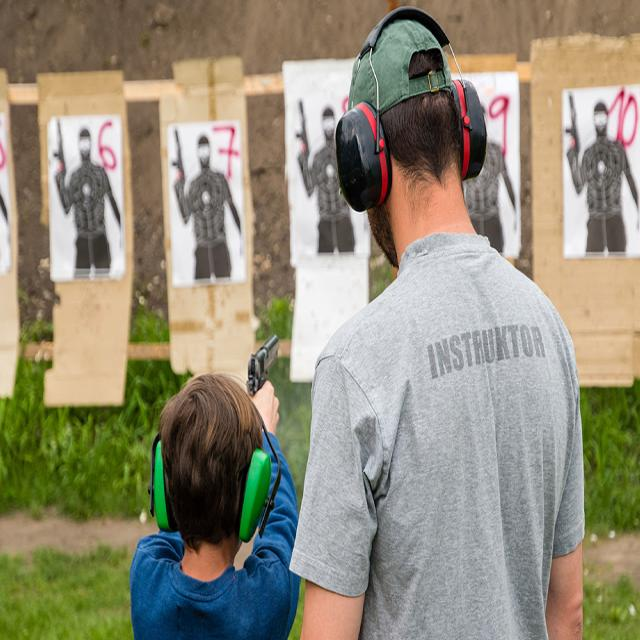Ear-protection: (330, 96, 392, 215), (235, 445, 273, 545), (452, 76, 486, 181), (149, 438, 169, 532)
person: (301, 0, 587, 640)
